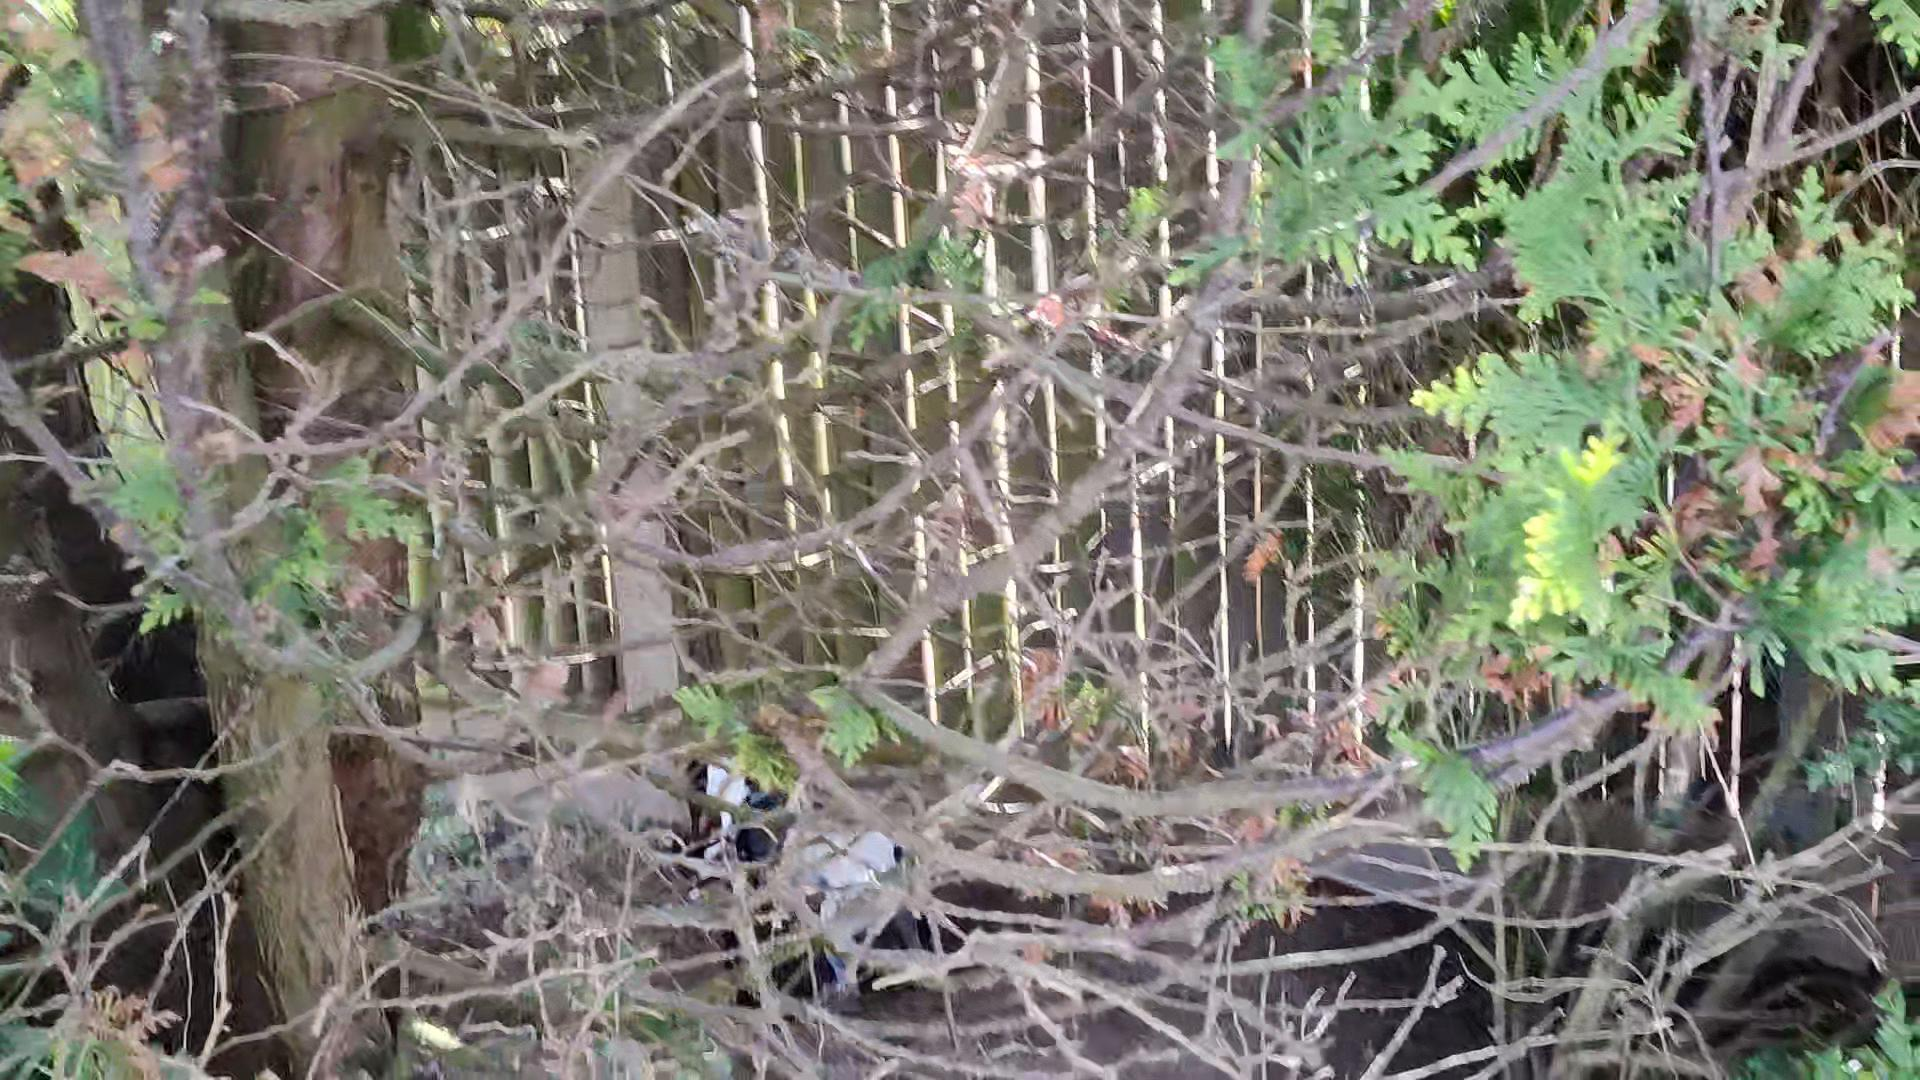Dog: (663, 738, 942, 1025)
